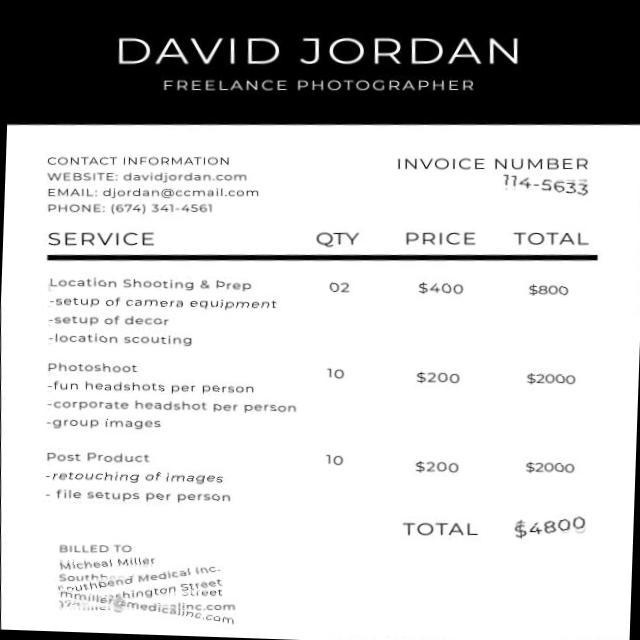customer_name: (53, 552, 158, 579)
invoice_number: (493, 171, 598, 198)
invoice_total: (504, 508, 594, 548)
item_description: (38, 268, 304, 516)
item_quantity: (306, 272, 366, 482)
item_total_price: (508, 273, 588, 490)
item_unit_price: (394, 270, 474, 488)
supplier_name: (103, 20, 530, 105)
